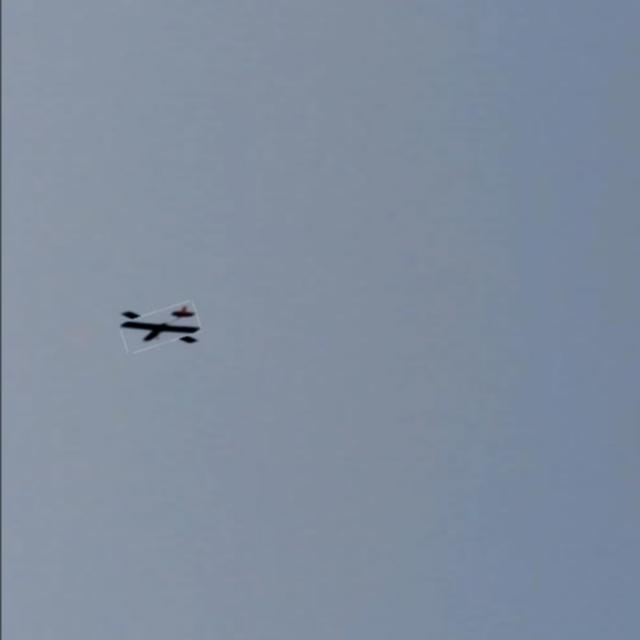plane: (119, 302, 202, 351)
